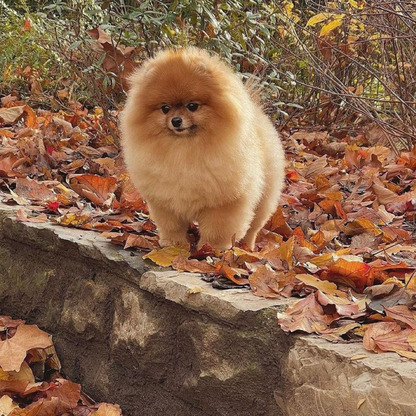Pomeranian: (103, 38, 306, 285)
